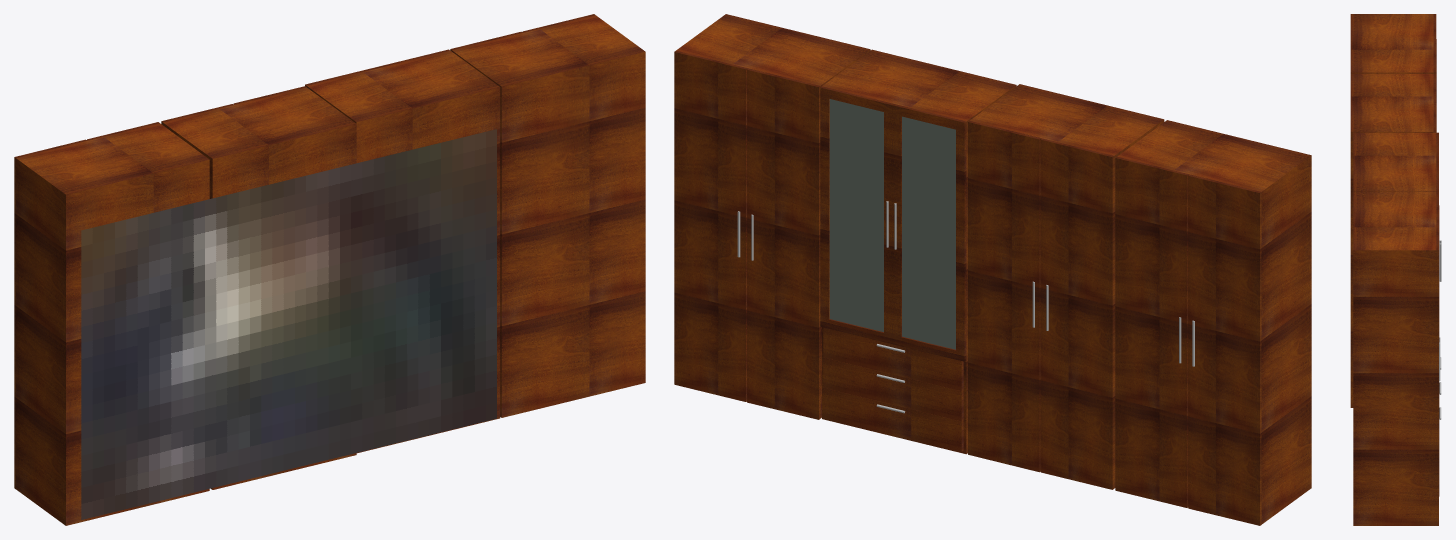
The picture shows the model from 3 angles, left to right: view 1: azimuth 30°, elevation 25°; view 2: azimuth 150°, elevation 25°; view 3: azimuth 270°, elevation 25°; orthographic projection. The views are drawn at different scales.
Parts seen in each view (by area): view 1: mesh73_mesh73-geometry, mesh44_mesh44-geometry, mesh48_mesh48-geometry, mesh34_mesh34-geometry; view 2: mesh34_mesh34-geometry, mesh36_mesh36-geometry, mesh44_mesh44-geometry, mesh48_mesh48-geometry, mesh51_mesh51-geometry, mesh69_mesh69-geometry, mesh65_mesh65-geometry, mesh66_mesh66-geometry, mesh70_mesh70-geometry; view 3: mesh44_mesh44-geometry, mesh48_mesh48-geometry, mesh36_mesh36-geometry, mesh34_mesh34-geometry.
Boxes of the visible parts, bbox=[...] form: mesh73_mesh73-geometry: bbox=[81, 129, 496, 519]; mesh44_mesh44-geometry: bbox=[16, 15, 645, 525]; mesh48_mesh48-geometry: bbox=[163, 50, 500, 489]; mesh34_mesh34-geometry: bbox=[14, 31, 523, 489]; mesh34_mesh34-geometry: bbox=[747, 68, 1261, 525]; mesh36_mesh36-geometry: bbox=[674, 50, 1188, 507]; mesh44_mesh44-geometry: bbox=[676, 14, 1311, 524]; mesh48_mesh48-geometry: bbox=[822, 49, 1164, 488]; mesh51_mesh51-geometry: bbox=[823, 327, 963, 451]; mesh69_mesh69-geometry: bbox=[829, 99, 883, 331]; mesh65_mesh65-geometry: bbox=[902, 116, 955, 349]; mesh66_mesh66-geometry: bbox=[892, 104, 966, 361]; mesh70_mesh70-geometry: bbox=[820, 86, 893, 343]; mesh44_mesh44-geometry: bbox=[1350, 14, 1436, 525]; mesh48_mesh48-geometry: bbox=[1350, 73, 1436, 407]; mesh36_mesh36-geometry: bbox=[1433, 43, 1438, 525]; mesh34_mesh34-geometry: bbox=[1433, 14, 1439, 496].
Size of the model in its own units: 0.8673 by 0.4721 by 0.1577.
